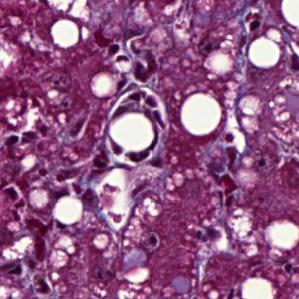inflammation: (210, 131, 248, 172), (0, 122, 39, 153), (31, 272, 58, 299)
